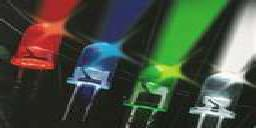LED: (62, 40, 119, 128), (121, 58, 182, 128), (188, 63, 247, 128), (9, 19, 61, 84)
